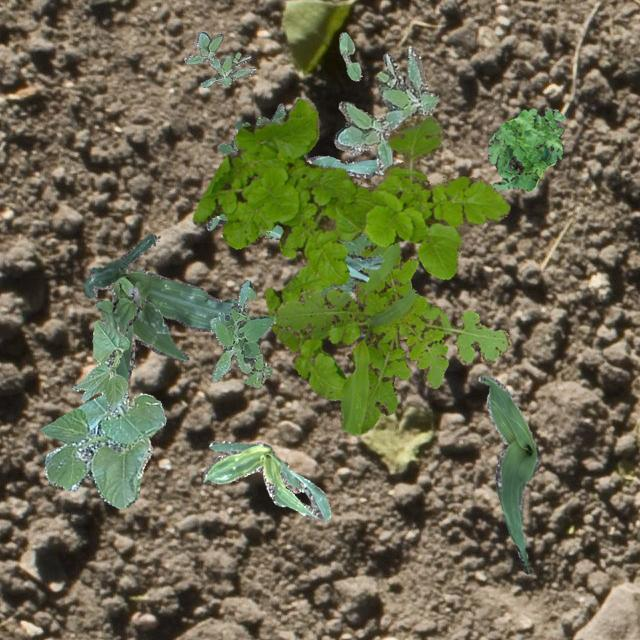crop: (205, 120, 382, 280), (82, 232, 236, 382), (39, 392, 164, 508), (478, 374, 538, 572), (202, 440, 330, 520), (72, 319, 128, 412), (338, 32, 360, 80)
weed: (192, 96, 510, 284), (272, 232, 510, 434), (264, 264, 442, 400), (332, 44, 438, 174), (210, 278, 274, 386), (486, 108, 564, 190), (94, 276, 168, 334), (183, 30, 254, 86), (216, 102, 286, 154), (318, 232, 371, 296)
